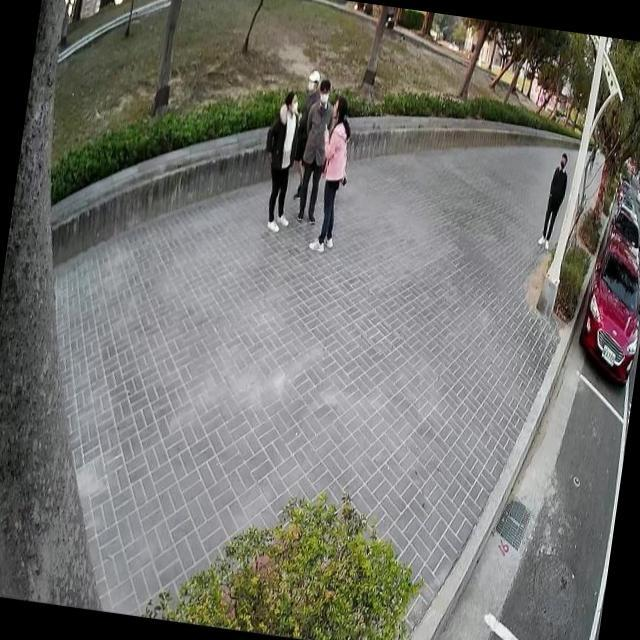person: (303, 90, 360, 256), (252, 81, 310, 236), (290, 73, 340, 226), (533, 145, 573, 254), (292, 64, 324, 160)
